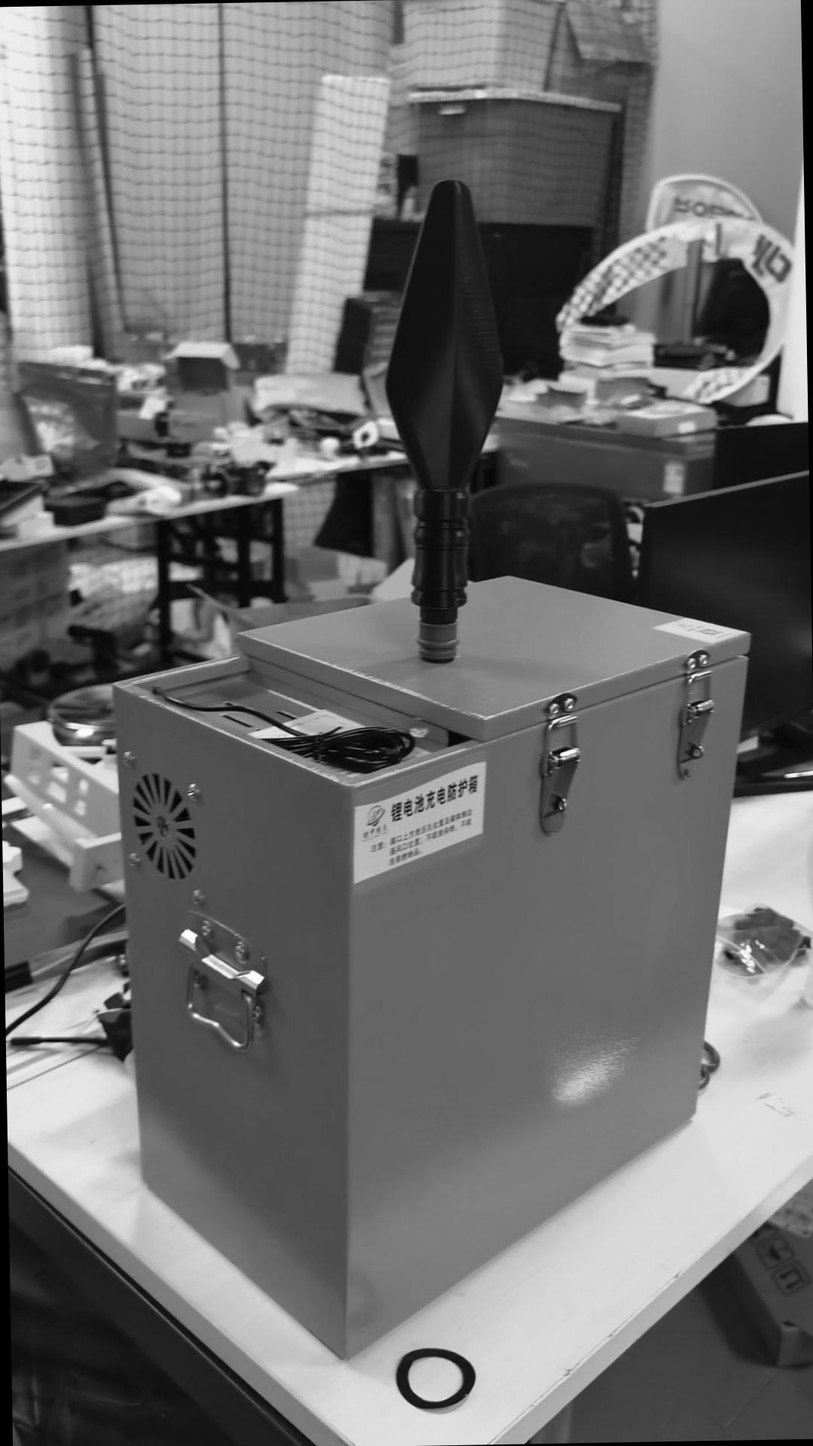base: (417, 615, 460, 665)
